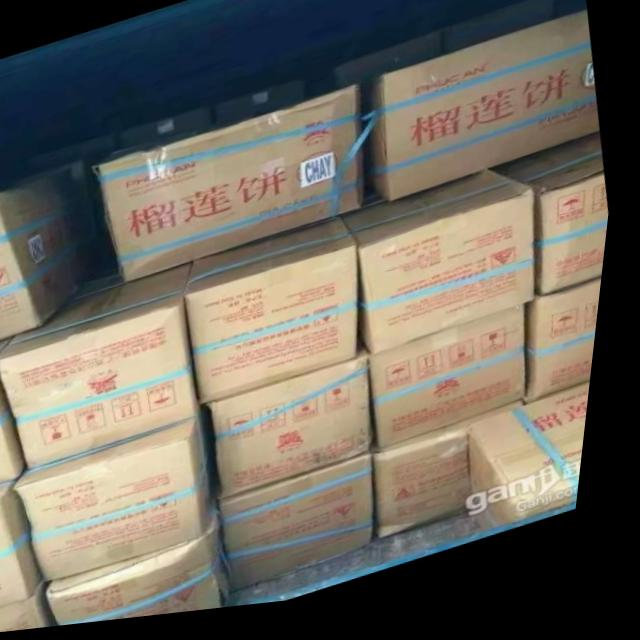box: (100, 93, 367, 286), (4, 265, 212, 472), (375, 24, 604, 212), (345, 180, 545, 364), (22, 422, 227, 588), (188, 223, 366, 410), (220, 357, 389, 505), (377, 317, 537, 457), (59, 513, 243, 629), (228, 463, 385, 597), (496, 148, 615, 308), (479, 396, 600, 546), (0, 182, 100, 344), (386, 429, 483, 550), (534, 293, 609, 415), (0, 480, 57, 612), (0, 371, 36, 487), (2, 578, 67, 635)
